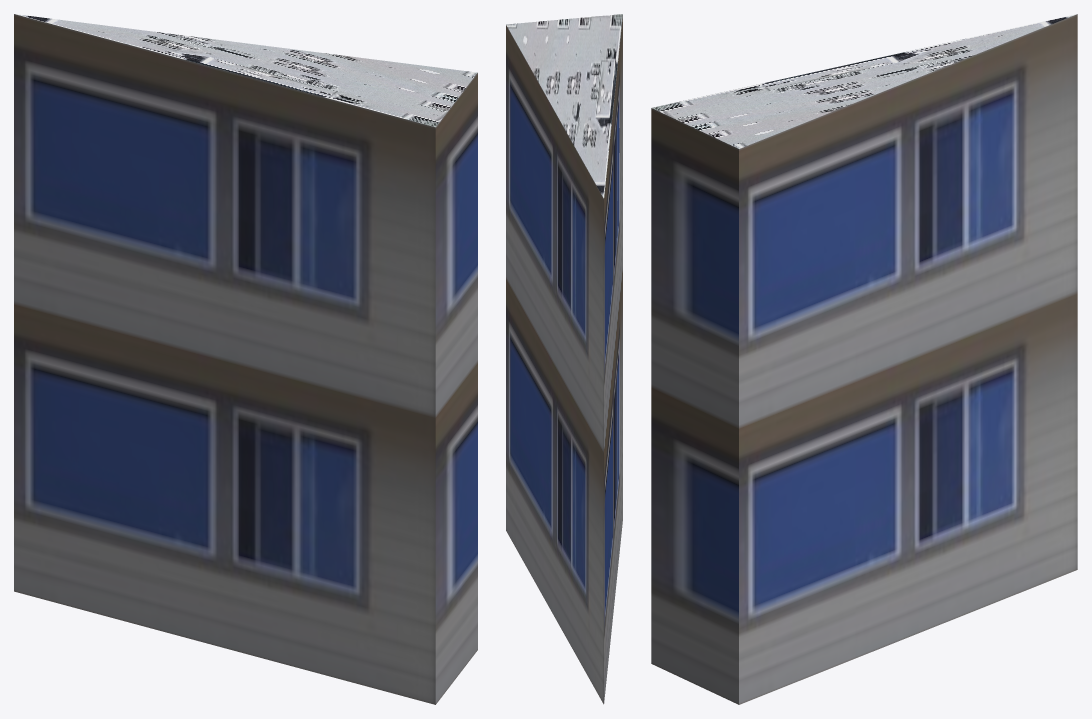
The model's file is ResTex__3077.fbx.
The picture shows the model from 3 angles, left to right: view 1: azimuth 30°, elevation 25°; view 2: azimuth 150°, elevation 25°; view 3: azimuth 270°, elevation 25°; orthographic projection. The views are drawn at different scales.
Parts seen in each view (by area): view 1: CityEngineMaterial_23_m, CityEngineMaterial_8_m; view 2: CityEngineMaterial_23_m, CityEngineMaterial_8_m; view 3: CityEngineMaterial_23_m, CityEngineMaterial_8_m.
Boxes of the visible parts, x1=… form: CityEngineMaterial_23_m: x1=14, y1=14, x2=477, y2=704; CityEngineMaterial_8_m: x1=16, y1=14, x2=477, y2=127; CityEngineMaterial_23_m: x1=506, y1=15, x2=622, y2=704; CityEngineMaterial_8_m: x1=506, y1=14, x2=622, y2=198; CityEngineMaterial_23_m: x1=651, y1=14, x2=1077, y2=704; CityEngineMaterial_8_m: x1=652, y1=14, x2=1076, y2=148.
Size of the model in its own units: 3.13 by 6 by 4.17.
2 materials, 2 textured.
